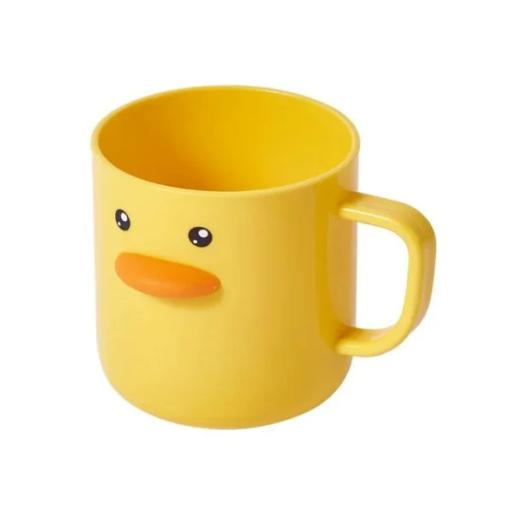cup: (94, 86, 434, 427)
